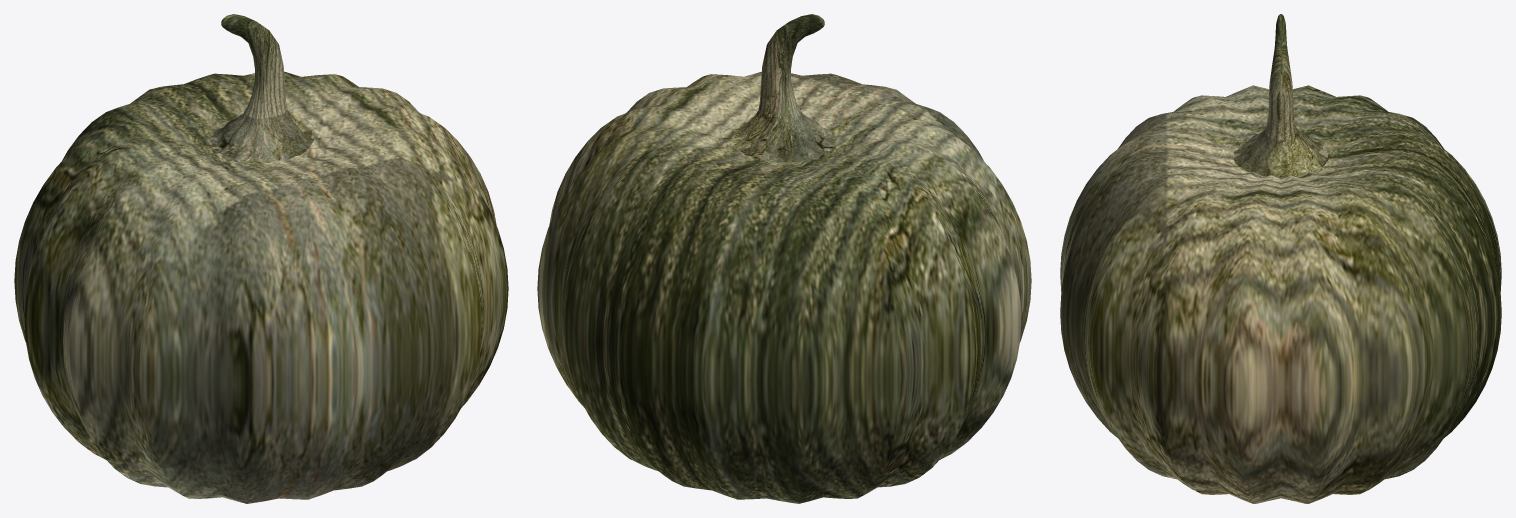
Rendered from PumpkinDAE.DAE.
3 views of the same model, side by side, from view 1: azimuth 30°, elevation 25°; view 2: azimuth 150°, elevation 25°; view 3: azimuth 270°, elevation 25° (orthographic). The views are drawn at different scales.
Visible parts, largest first — view 1: Sphere001; view 2: Sphere001; view 3: Sphere001.
Part boxes in pixels (x1=…): Sphere001: x1=14, y1=14, x2=508, y2=503; Sphere001: x1=537, y1=14, x2=1031, y2=503; Sphere001: x1=1060, y1=14, x2=1501, y2=503.
Size of the model in its own units: 163 by 162 by 154.
